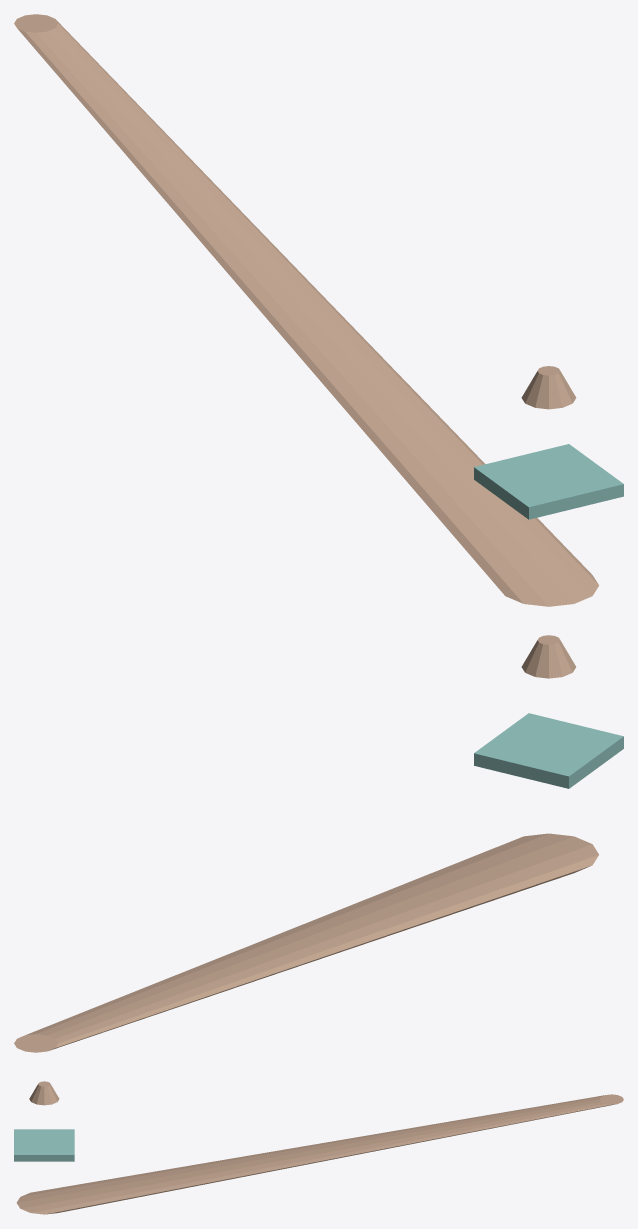
Rendered from PROP_BurialJar.fbx.
3 renders of one model, top to bottom at view 1: azimuth 30°, elevation 25°; view 2: azimuth 150°, elevation 25°; view 3: azimuth 270°, elevation 25°, orthographic. The views are drawn at different scales.
Parts seen in each view (by area): view 1: PROP_BurialJar, PROP_BurialJar_Stripe, PROP_BurialJar_Lid; view 2: PROP_BurialJar, PROP_BurialJar_Stripe, PROP_BurialJar_Lid; view 3: PROP_BurialJar, PROP_BurialJar_Stripe, PROP_BurialJar_Lid.
Boxes of the visible parts, x1=… form: PROP_BurialJar: x1=14, y1=14, x2=598, y2=606; PROP_BurialJar_Stripe: x1=474, y1=444, x2=623, y2=519; PROP_BurialJar_Lid: x1=521, y1=366, x2=576, y2=409; PROP_BurialJar: x1=14, y1=833, x2=598, y2=1052; PROP_BurialJar_Stripe: x1=474, y1=713, x2=623, y2=788; PROP_BurialJar_Lid: x1=521, y1=635, x2=575, y2=678; PROP_BurialJar: x1=16, y1=1094, x2=623, y2=1214; PROP_BurialJar_Stripe: x1=14, y1=1129, x2=74, y2=1161; PROP_BurialJar_Lid: x1=29, y1=1081, x2=59, y2=1105.
Size of the model in its own units: 48 by 104 by 482.
